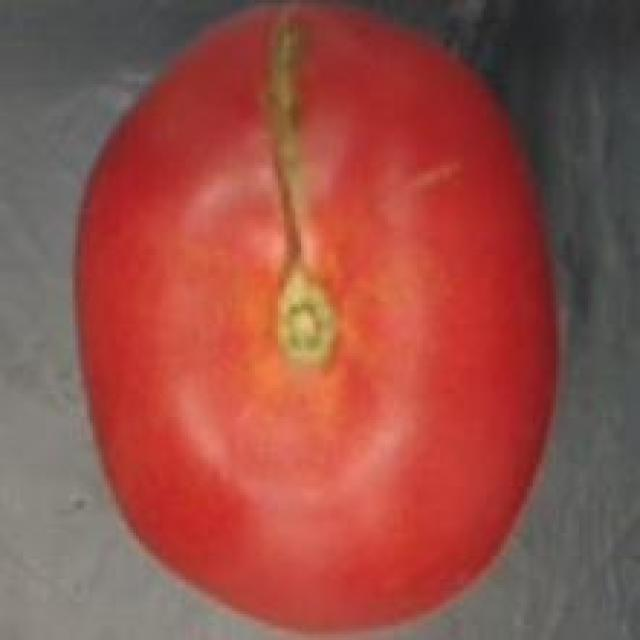overripe tomato: (61, 3, 565, 640)
